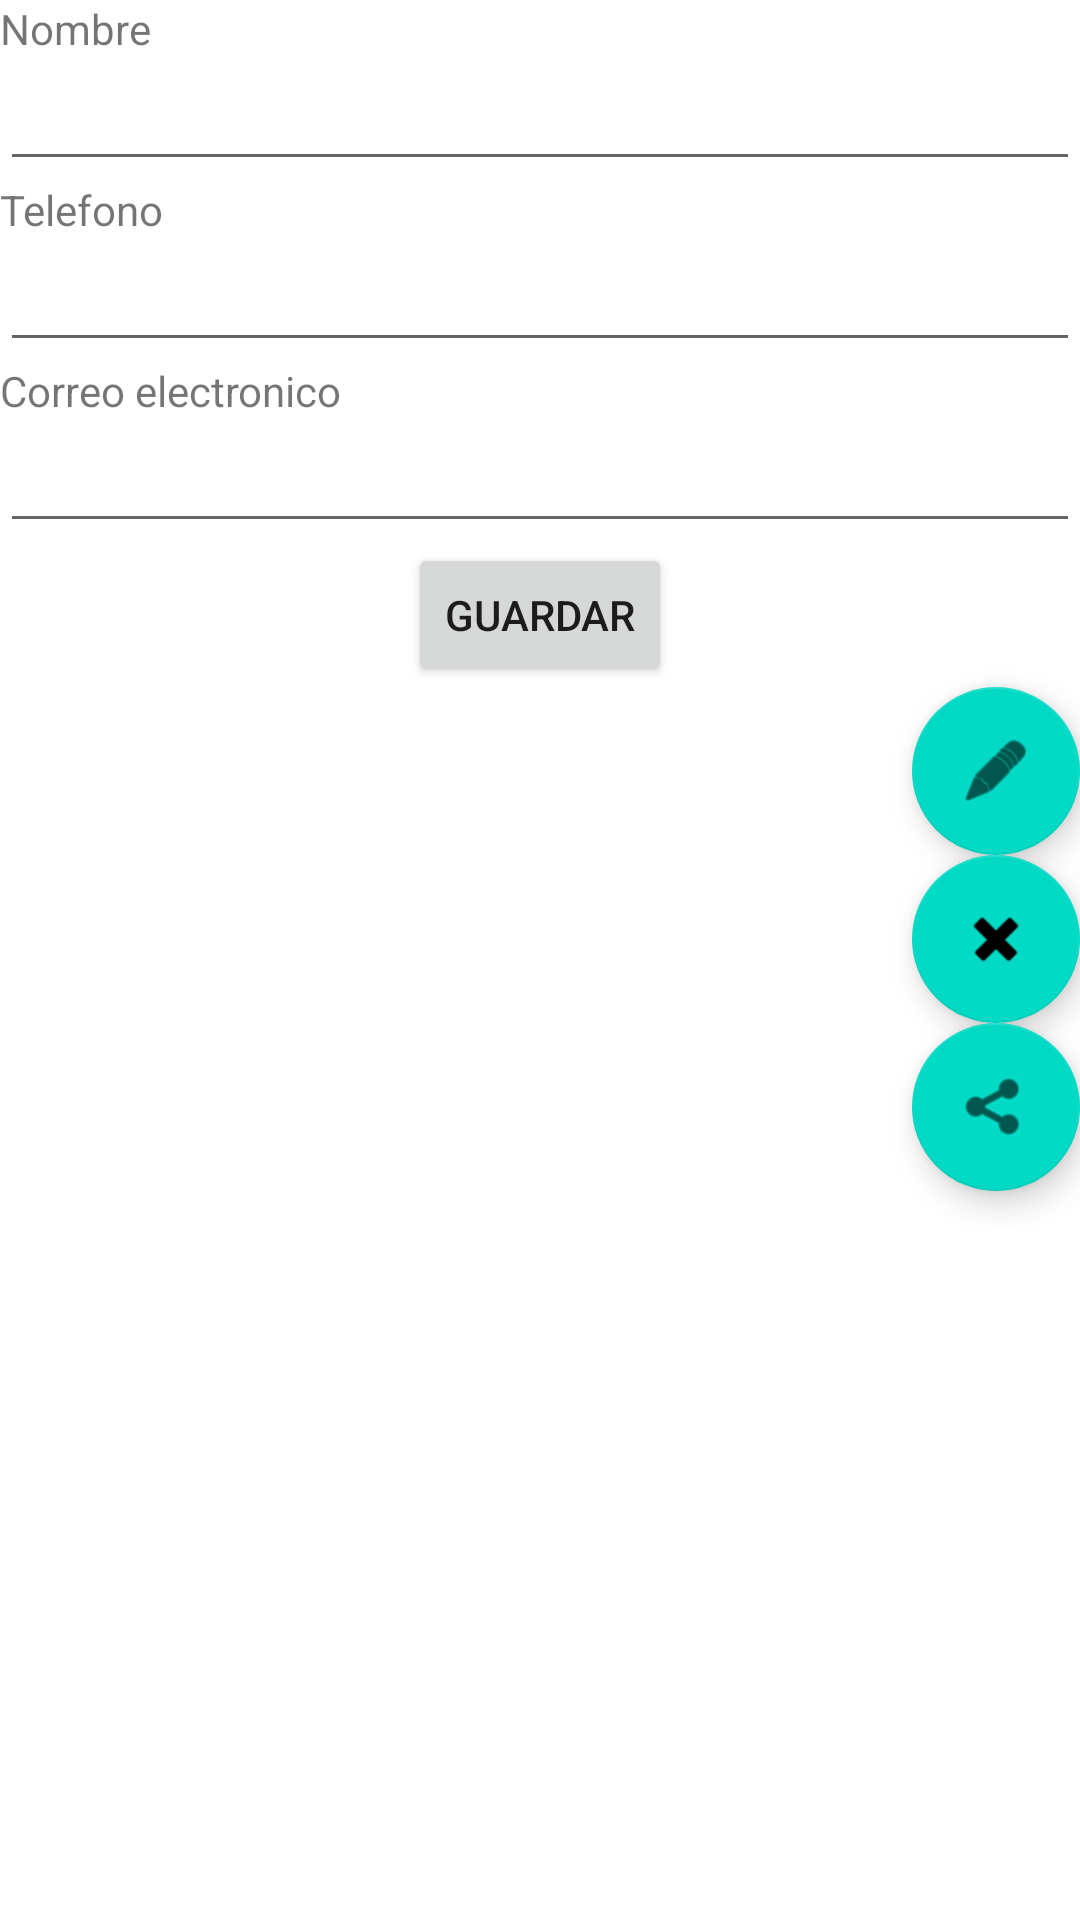

Where icons sit on this 1080px x 1920px app screen, as (x1, y1, x2, y2):
delete: (912, 855, 1080, 1023)
edit: (912, 687, 1080, 855)
share: (912, 1023, 1080, 1191)
